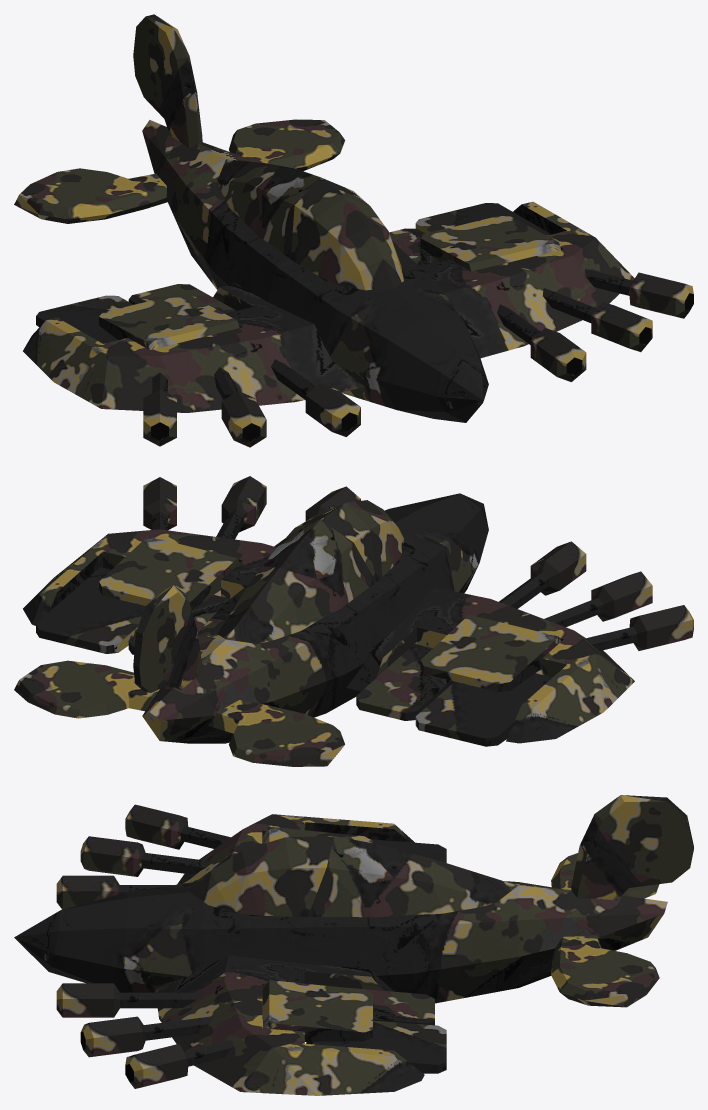
3 renders of one model, top to bottom at view 1: azimuth 30°, elevation 25°; view 2: azimuth 150°, elevation 25°; view 3: azimuth 270°, elevation 25°, orthographic. The views are drawn at different scales.
Visible parts, largest first — view 1: plane_02_3h10min__002, plane_02_3h10min__010, plane_02_3h10min__007, plane_02_3h10min__001, plane_02_3h10min__003, plane_02_3h10min__000, plane_02_3h10min__004, plane_02_3h10min__005, plane_02_3h10min__011, plane_02_3h10min__006, plane_02_3h10min__009, plane_02_3h10min__012 (+1 smaller); view 2: plane_02_3h10min__002, plane_02_3h10min__010, plane_02_3h10min__007, plane_02_3h10min__011, plane_02_3h10min__009, plane_02_3h10min__012, plane_02_3h10min__006, plane_02_3h10min__005, plane_02_3h10min__004, plane_02_3h10min__001, plane_02_3h10min__003, plane_02_3h10min__000 (+1 smaller); view 3: plane_02_3h10min__002, plane_02_3h10min__007, plane_02_3h10min__000, plane_02_3h10min__009, plane_02_3h10min__001, plane_02_3h10min__005, plane_02_3h10min__003, plane_02_3h10min__006, plane_02_3h10min__008, plane_02_3h10min__004, plane_02_3h10min__011, plane_02_3h10min__010.
Boxes of the visible parts, x1,y1,x2,y2 form: plane_02_3h10min__002: [14, 14, 634, 422]; plane_02_3h10min__010: [99, 294, 239, 349]; plane_02_3h10min__007: [420, 216, 560, 271]; plane_02_3h10min__001: [542, 288, 652, 351]; plane_02_3h10min__003: [585, 269, 693, 318]; plane_02_3h10min__000: [497, 304, 586, 381]; plane_02_3h10min__004: [271, 359, 360, 436]; plane_02_3h10min__005: [214, 367, 266, 447]; plane_02_3h10min__011: [36, 295, 133, 343]; plane_02_3h10min__006: [143, 372, 176, 446]; plane_02_3h10min__009: [415, 203, 551, 235]; plane_02_3h10min__012: [128, 284, 236, 313]; plane_02_3h10min__002: [14, 493, 634, 766]; plane_02_3h10min__010: [420, 614, 561, 691]; plane_02_3h10min__007: [99, 536, 239, 609]; plane_02_3h10min__011: [415, 673, 552, 746]; plane_02_3h10min__009: [36, 567, 145, 653]; plane_02_3h10min__012: [356, 644, 454, 720]; plane_02_3h10min__006: [585, 605, 693, 650]; plane_02_3h10min__005: [544, 571, 652, 626]; plane_02_3h10min__004: [499, 541, 586, 608]; plane_02_3h10min__001: [216, 476, 266, 539]; plane_02_3h10min__003: [143, 477, 176, 530]; plane_02_3h10min__000: [274, 486, 360, 547]; plane_02_3h10min__002: [14, 795, 693, 1095]; plane_02_3h10min__007: [263, 980, 372, 1041]; plane_02_3h10min__000: [56, 983, 202, 1017]; plane_02_3h10min__009: [306, 1020, 446, 1073]; plane_02_3h10min__001: [80, 1016, 213, 1057]; plane_02_3h10min__005: [80, 836, 213, 876]; plane_02_3h10min__003: [125, 1040, 232, 1088]; plane_02_3h10min__006: [125, 804, 230, 849]; plane_02_3h10min__008: [343, 987, 434, 1025]; plane_02_3h10min__004: [56, 875, 173, 909]; plane_02_3h10min__011: [371, 839, 446, 862]; plane_02_3h10min__010: [263, 826, 372, 843].
Size of the model in its own units: 168 by 65.82 by 184.
